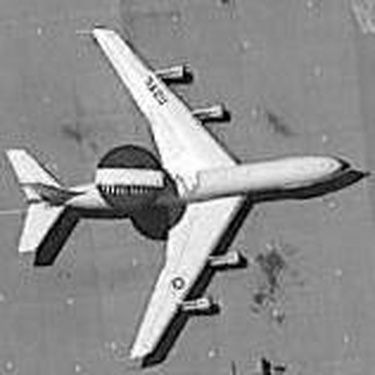airplane: (1, 18, 356, 368)
